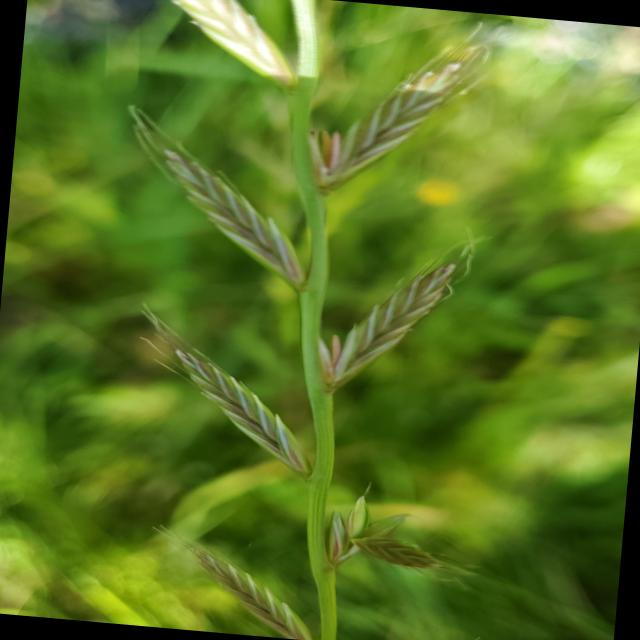Lolium: (79, 0, 523, 640)
